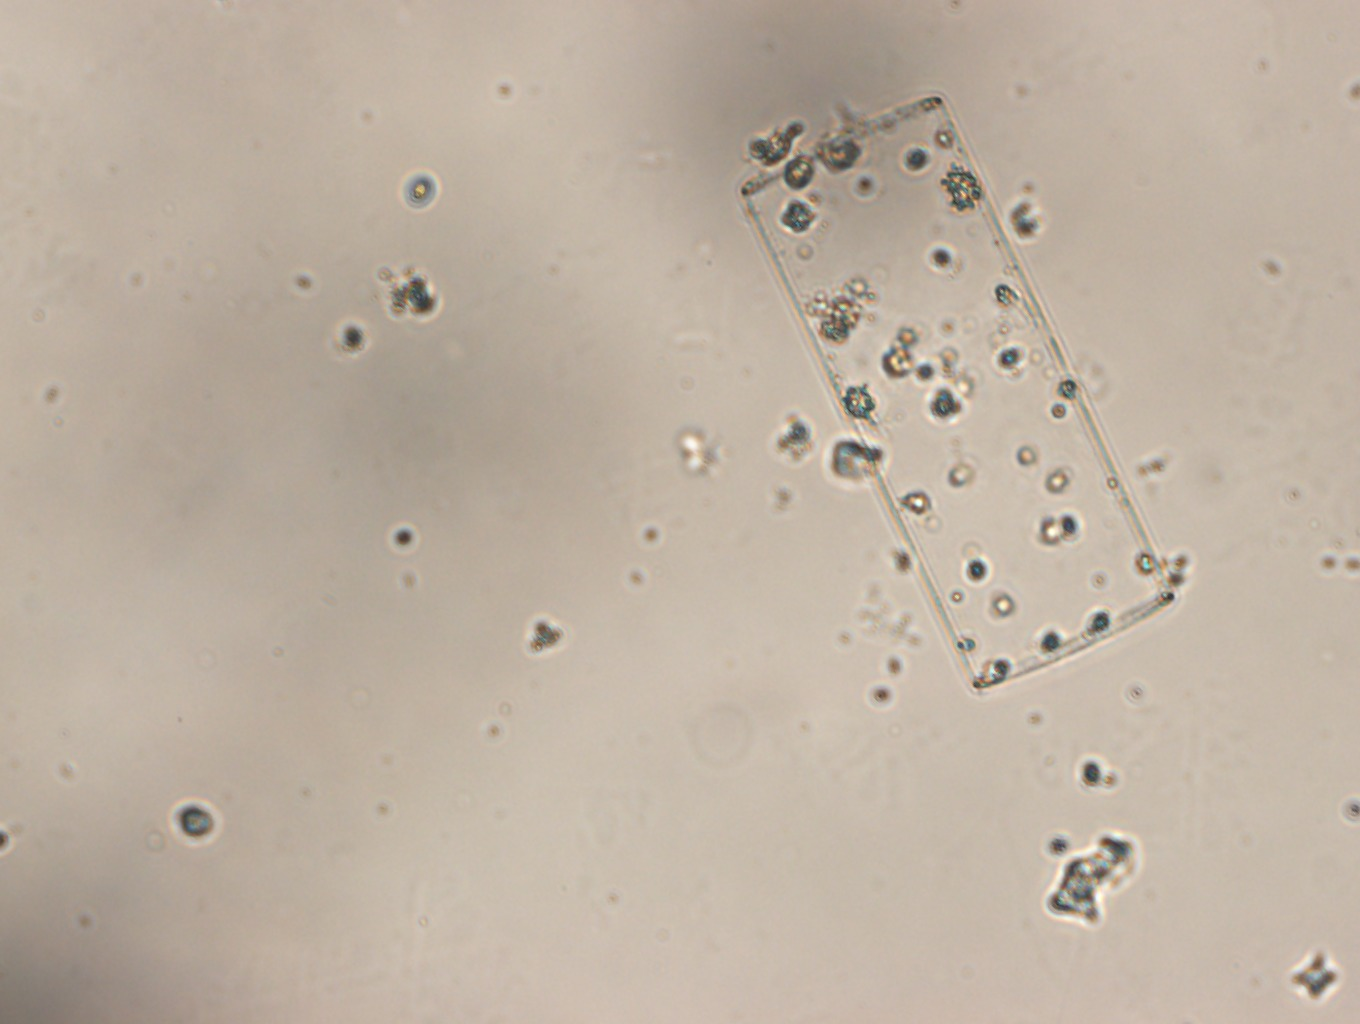guinardia flaccida: (738, 93, 1179, 695)
